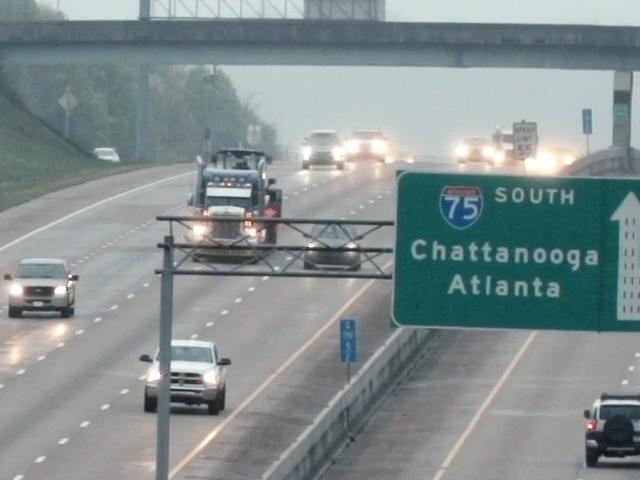car: (132, 340, 240, 412), (0, 251, 88, 319), (576, 390, 640, 465), (303, 235, 364, 271), (299, 131, 345, 170), (344, 131, 390, 165), (456, 139, 499, 170), (533, 147, 581, 172), (91, 146, 121, 163), (301, 146, 315, 163), (399, 152, 414, 165)
truck: (192, 152, 288, 262)
